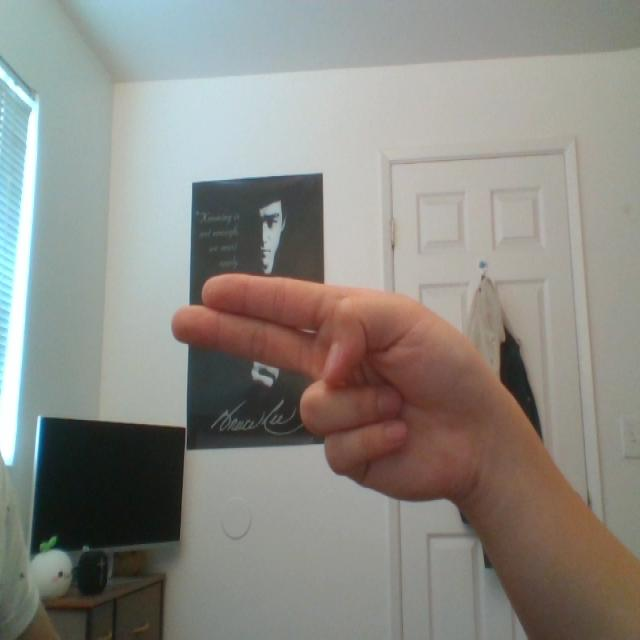H: (150, 211, 507, 514)
